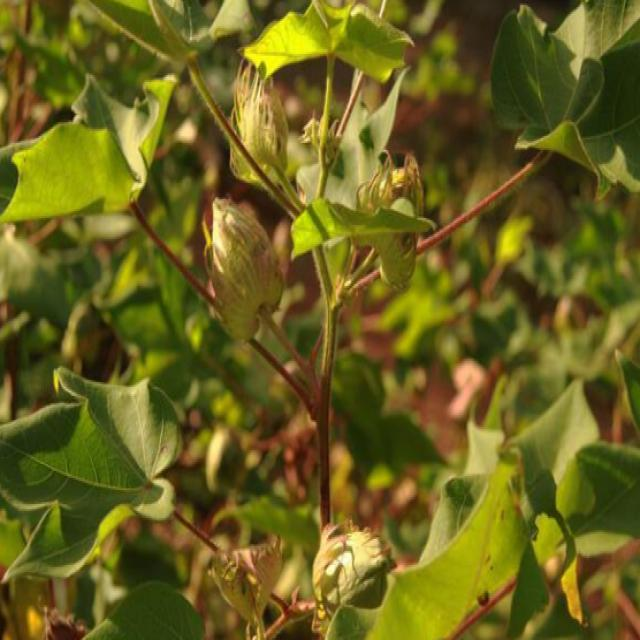Cotton Bud: (228, 66, 296, 182)
Early Boll: (203, 196, 292, 342), (307, 521, 401, 626), (357, 152, 427, 289)
